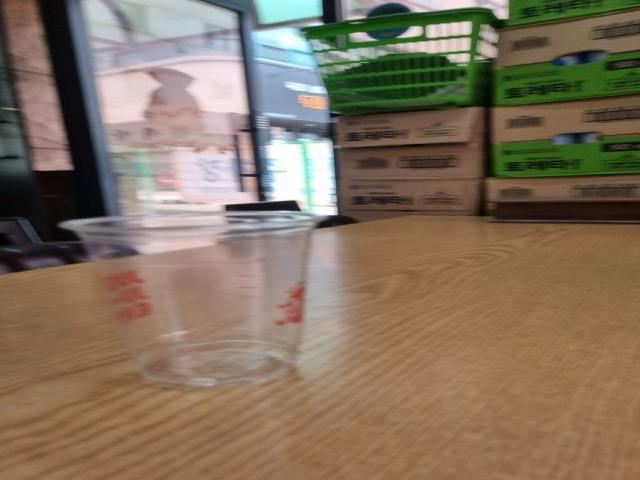cup: (52, 206, 348, 392)
